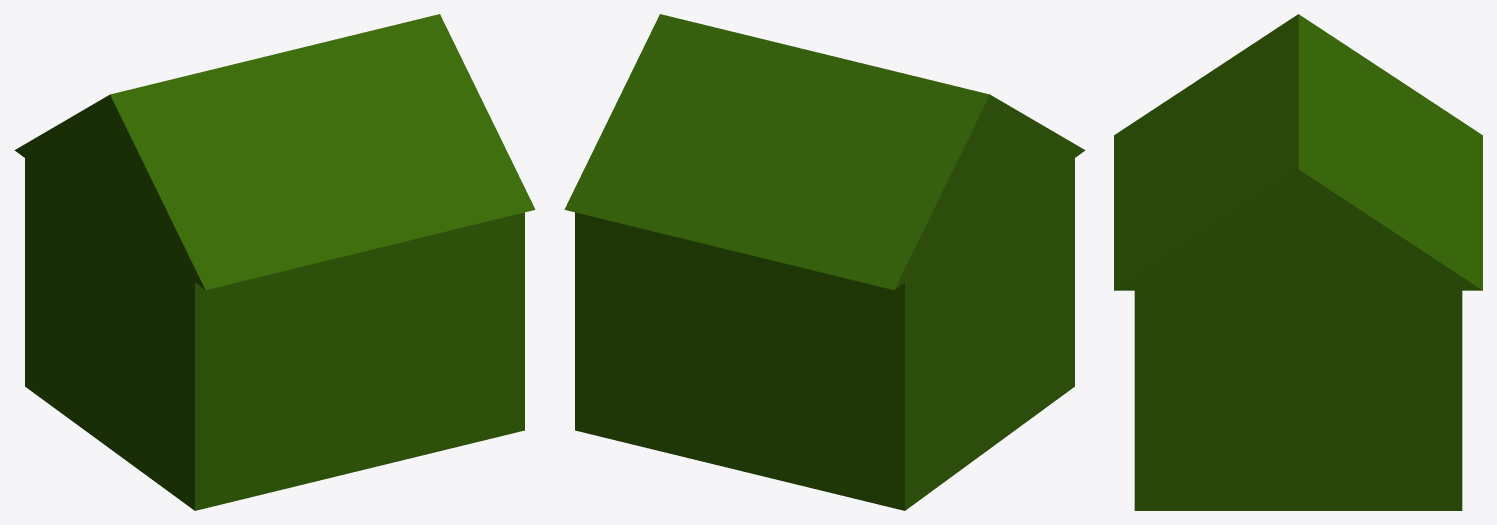
The model's file is Game_Piece_House_Green_01.fbx.
3 views of the same model, side by side, from view 1: azimuth 30°, elevation 25°; view 2: azimuth 150°, elevation 25°; view 3: azimuth 270°, elevation 25° (orthographic). The views are drawn at different scales.
Parts seen in each view (by area): view 1: Game_Piece_House_Green_01; view 2: Game_Piece_House_Green_01; view 3: Game_Piece_House_Green_01.
Boxes of the visible parts, box(x1,y1,x2,y2) form: Game_Piece_House_Green_01: box(14, 14, 535, 510); Game_Piece_House_Green_01: box(564, 14, 1085, 510); Game_Piece_House_Green_01: box(1114, 14, 1482, 510).
Bounding box in the file's own units: 11.39 × 11.68 × 11.43.
